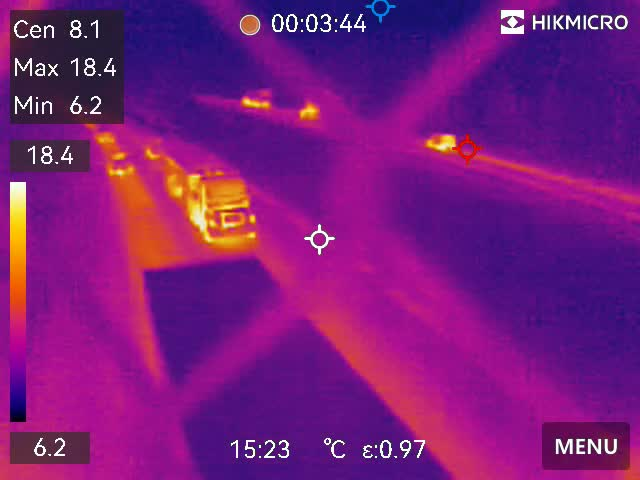heavyTruck: (133, 264, 476, 480), (159, 134, 263, 244)
vehicle: (422, 134, 458, 155)
